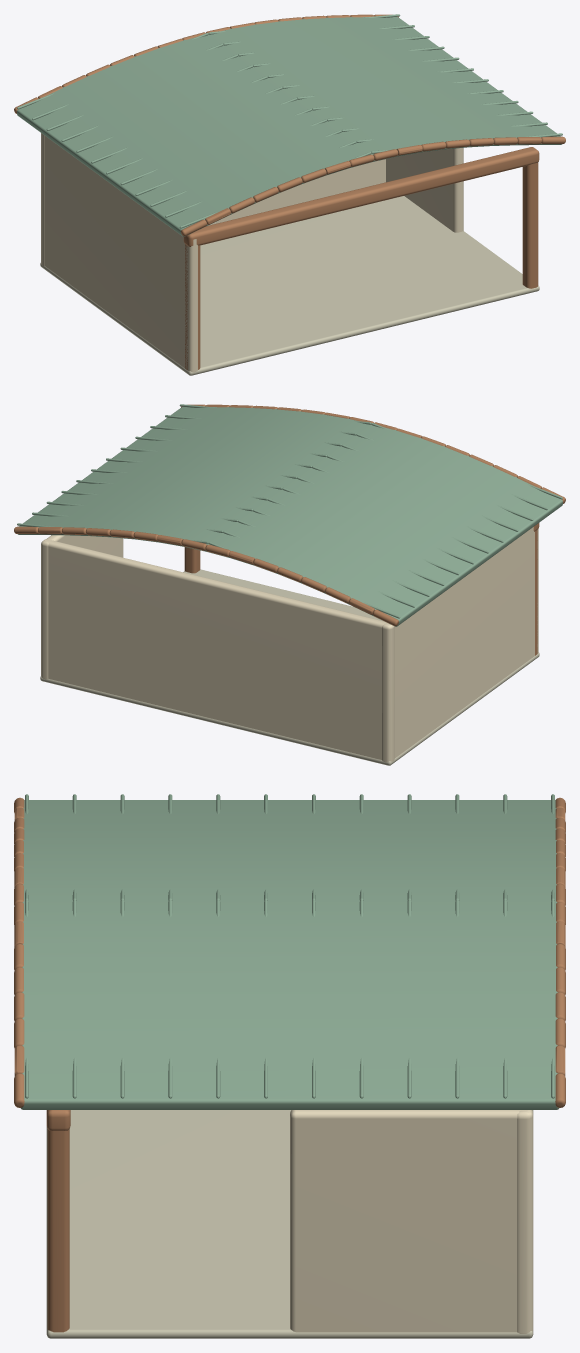
File: relaxation.glb
3 views of the same model, one above another, from view 1: azimuth 30°, elevation 25°; view 2: azimuth 150°, elevation 25°; view 3: azimuth 270°, elevation 25° (orthographic). The views are drawn at different scales.
Visible parts, largest first — view 1: Roof_sage, Body_stone, Body_cream, Body_wood, Roof_wood; view 2: Body_cream, Roof_sage, Roof_wood, Body_stone, Body_wood; view 3: Roof_sage, Body_cream, Body_stone, Roof_wood, Body_wood.
Part boxes in pixels (x1,y1,x2,y2): Roof_sage: (17, 14, 562, 236); Body_stone: (40, 196, 539, 375); Body_cream: (41, 133, 463, 372); Body_wood: (183, 147, 539, 370); Roof_wood: (14, 14, 565, 236); Body_cream: (41, 527, 538, 762); Roof_sage: (17, 404, 562, 626); Roof_wood: (14, 404, 565, 626); Body_stone: (40, 569, 539, 765); Body_wood: (184, 523, 539, 655); Roof_sage: (20, 794, 559, 1109); Body_cream: (290, 1110, 533, 1333); Body_stone: (46, 1110, 533, 1338); Roof_wood: (14, 797, 565, 1107); Body_wood: (46, 1110, 70, 1332).
Size of the model in its own units: 7.21 by 3.37 by 5.56.
